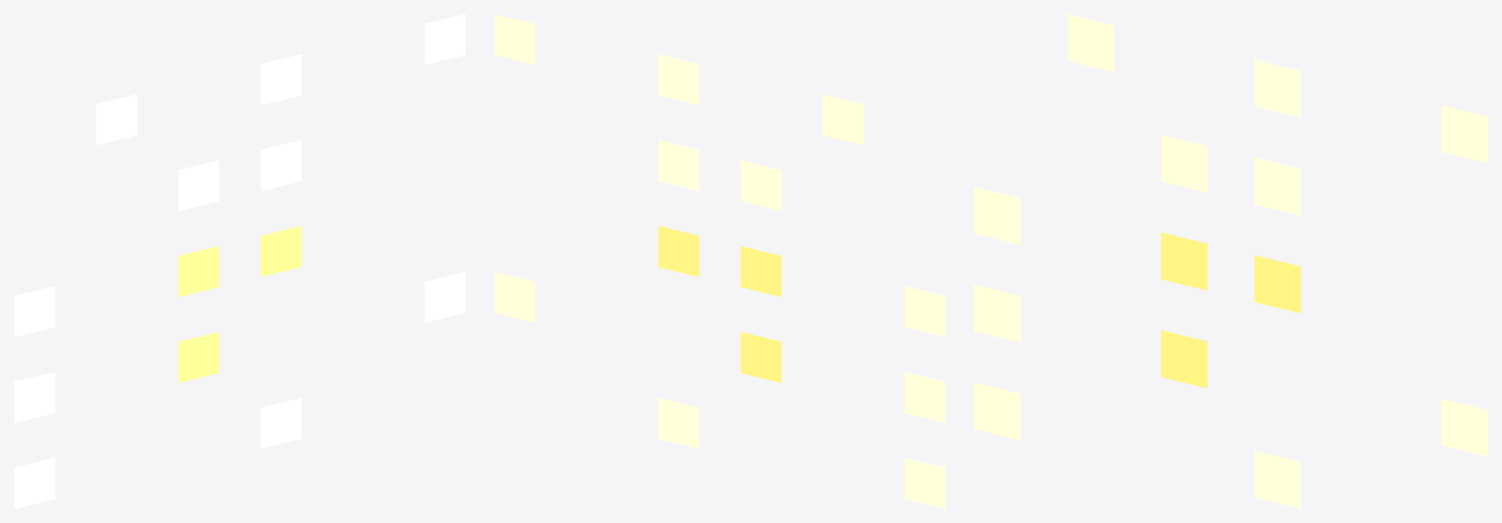
Rendered from window-lights-6.glb.
The picture shows the model from 3 angles, left to right: view 1: azimuth 30°, elevation 25°; view 2: azimuth 150°, elevation 25°; view 3: azimuth 330°, elevation 25°; orthographic projection. The views are drawn at different scales.
Parts seen in each view (by area): view 1: window warm, window amber; view 2: window warm, window amber; view 3: window warm, window amber.
Part boxes in pixels (x1=…): window warm: x1=14, y1=14, x2=465, y2=508; window amber: x1=178, y1=226, x2=301, y2=382; window warm: x1=494, y1=14, x2=945, y2=508; window amber: x1=658, y1=226, x2=781, y2=382; window warm: x1=974, y1=14, x2=1487, y2=508; window amber: x1=1161, y1=232, x2=1300, y2=388.
Size of the model in its own units: 0.9167 by 0.7467 by 0.
